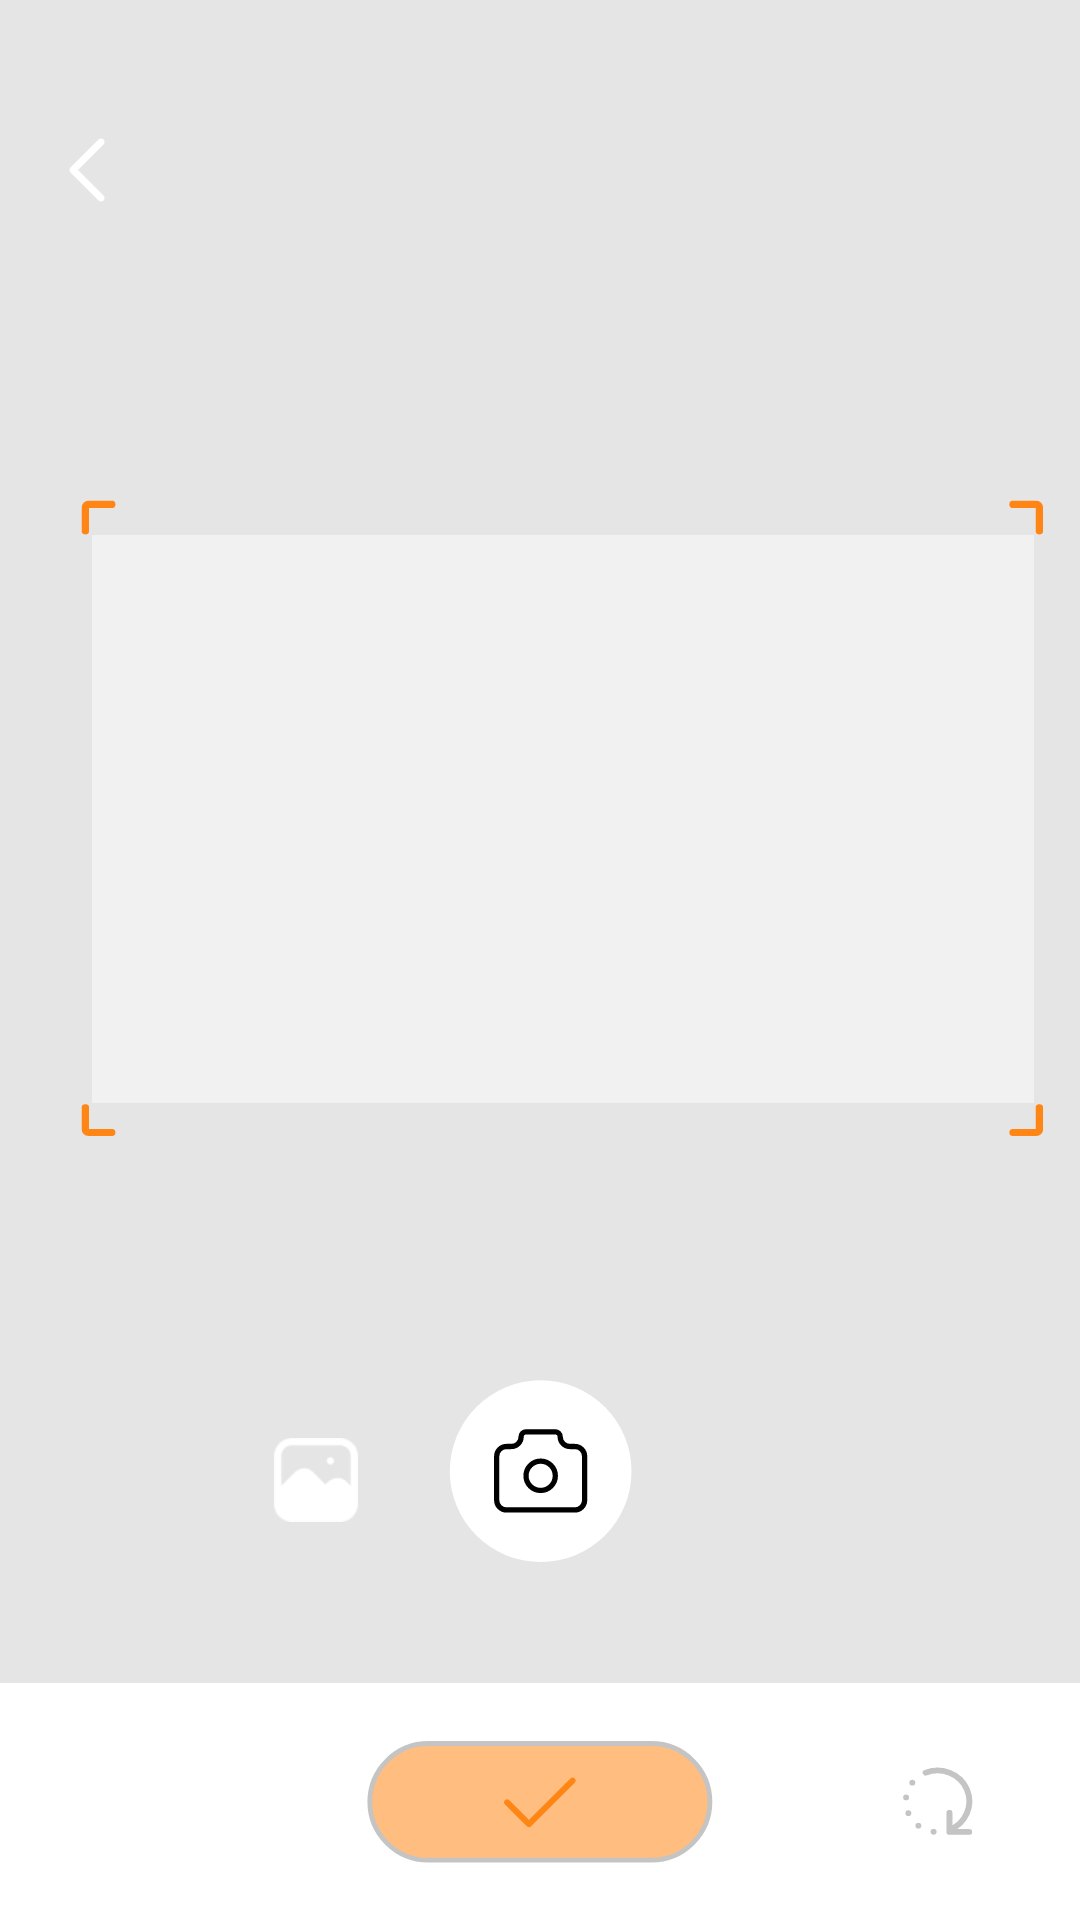

Where icons sit on this 1080 x 1920 app screen, as (x1, y1, x2, y2):
back: (70, 139, 104, 201)
cameraa: (450, 1381, 631, 1562)
cameracheck: (367, 1741, 712, 1863)
gallery: (275, 1439, 357, 1521)
turnaround: (903, 1767, 973, 1835)
